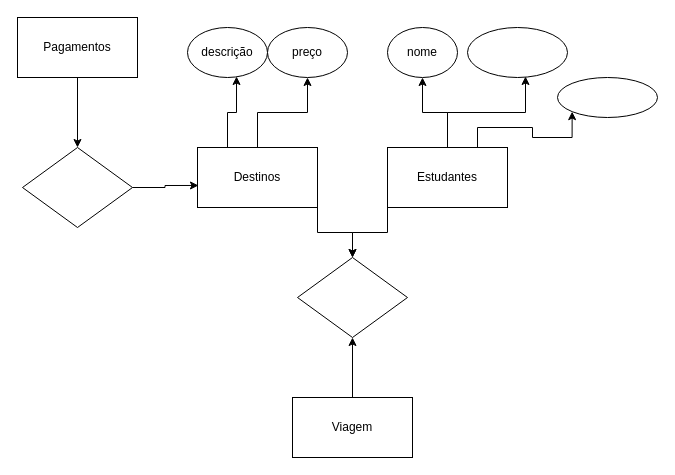
The diagram is 675 pixels wide and 475 high, and some of its shapes have lost their labels. The centre of each missing label's shape, as x and y in pixels:
cartao_cidadao: the point at 517,52
data_nascimento: the point at 607,97
pertence(): the point at 352,297
pertence_preco(): the point at 77,187
